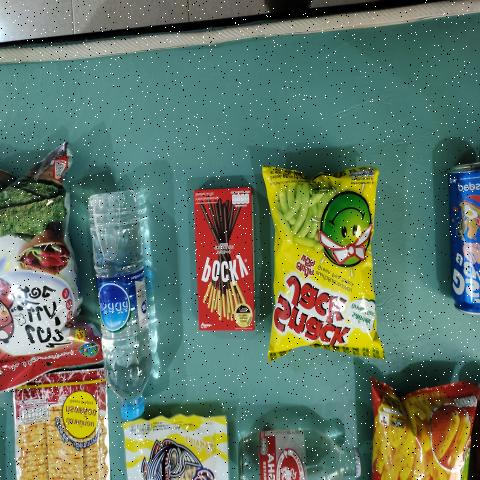crystal: (91, 186, 155, 423)
pokki: (196, 198, 253, 330)
snack_jack: (276, 174, 372, 348)
taokaenoi: (0, 155, 67, 381)
